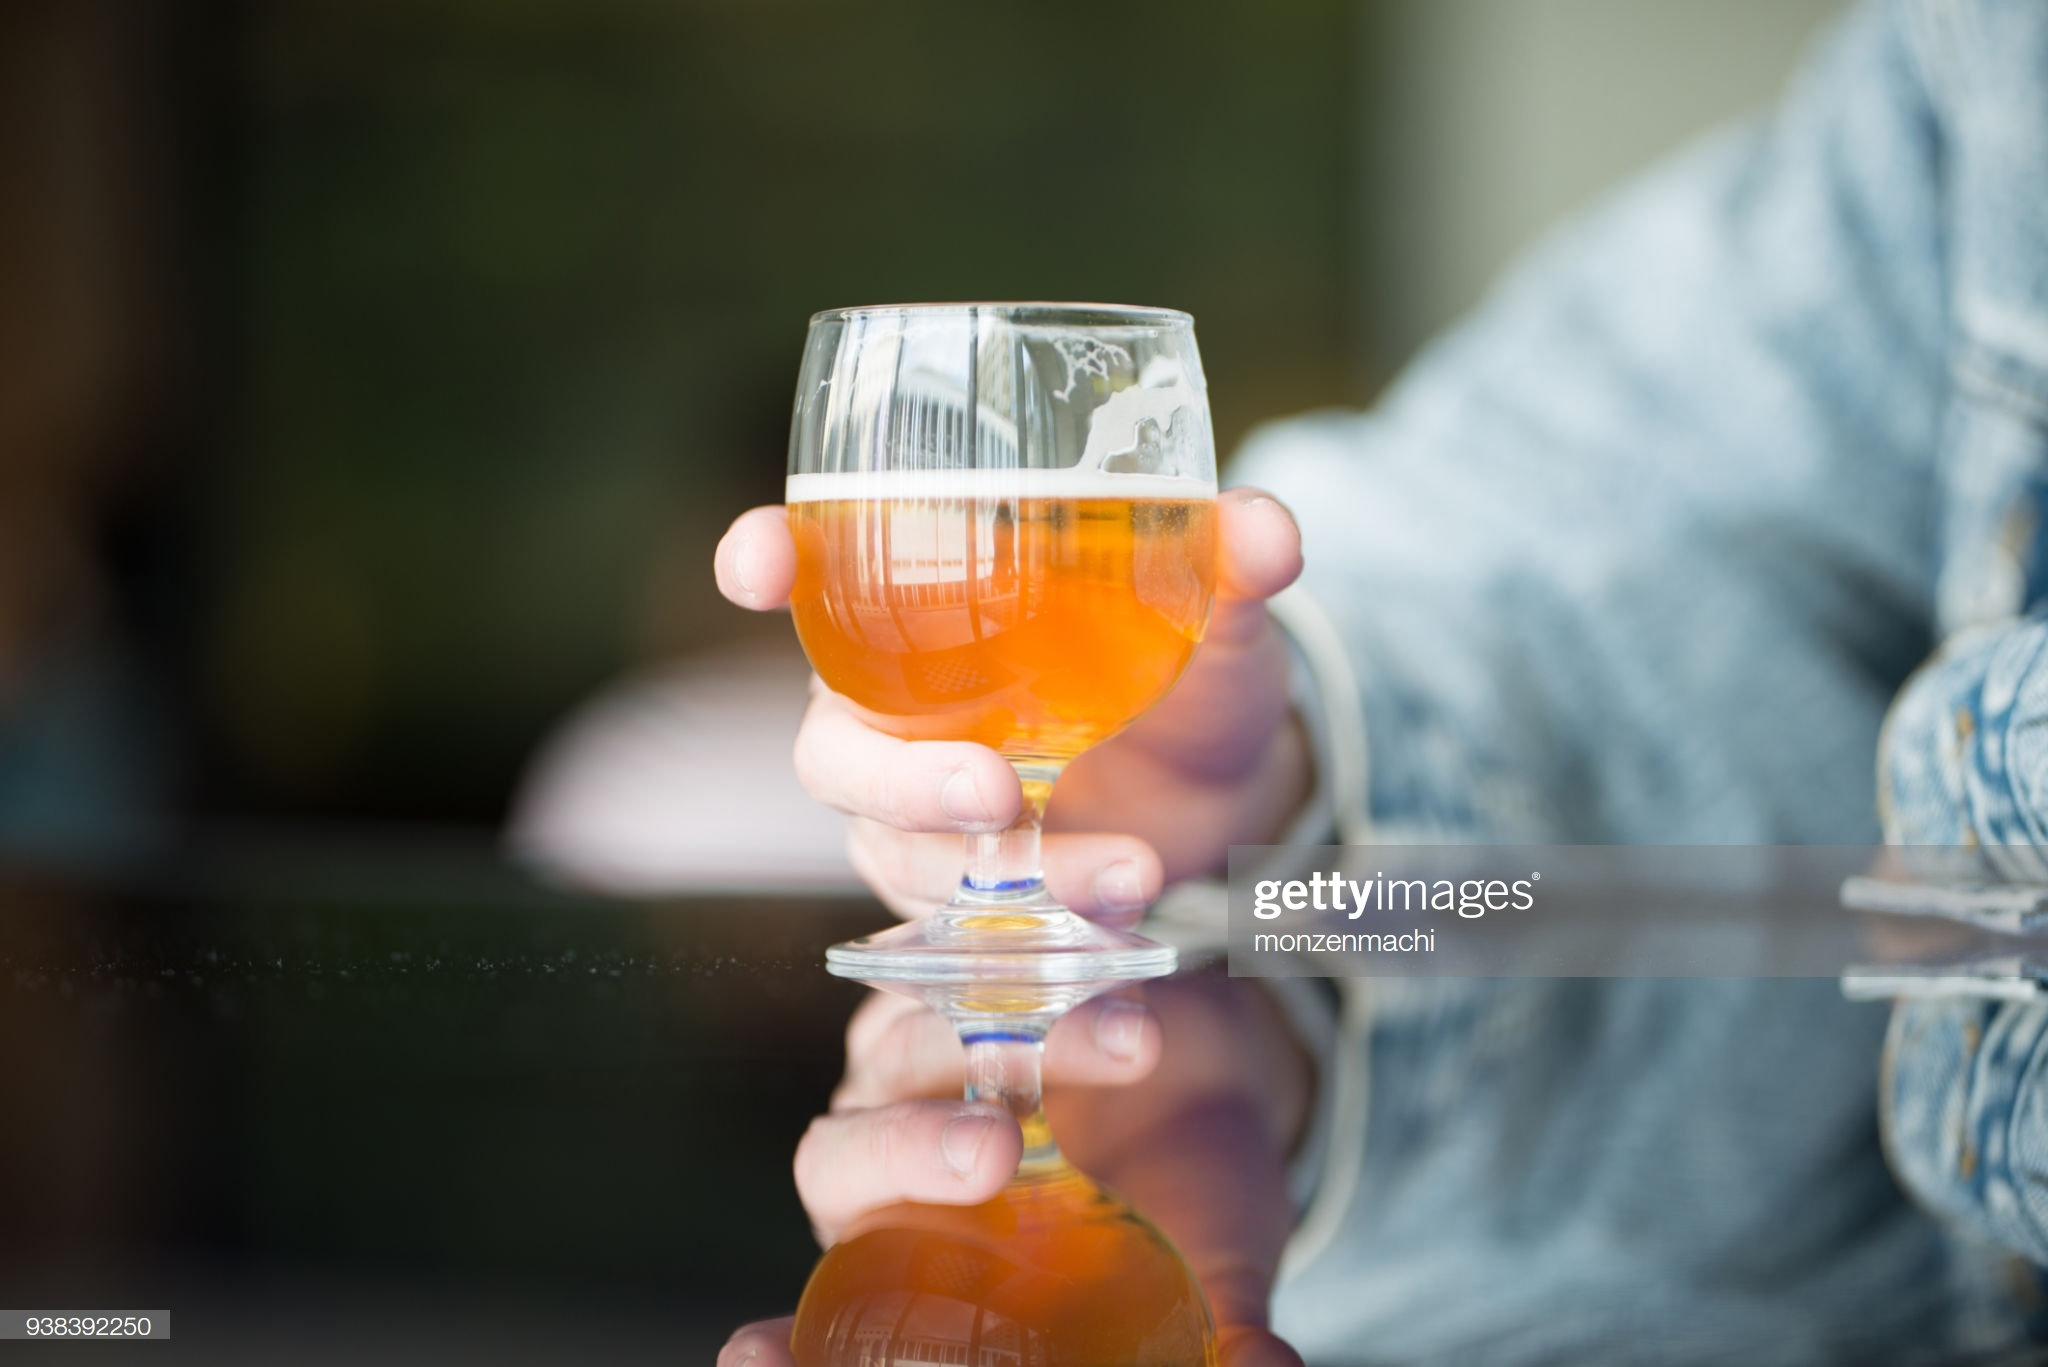glassBeer: (798, 301, 1231, 970)
